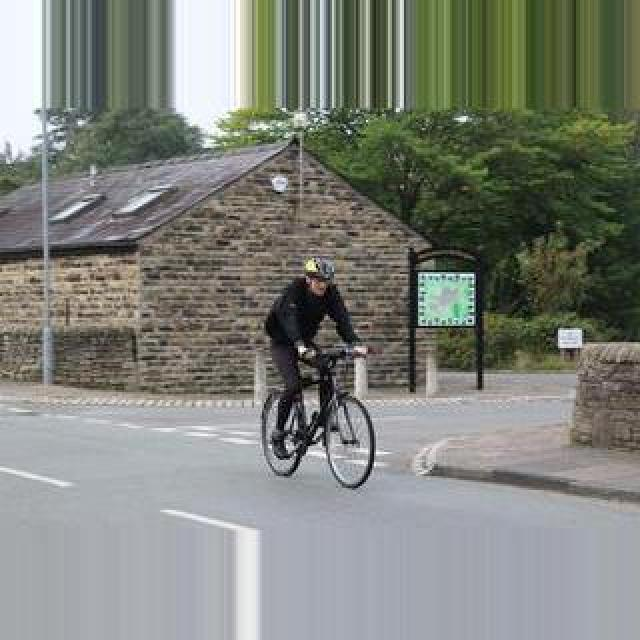MC-Bike: (264, 256, 368, 456)
Person: (261, 345, 377, 487)
